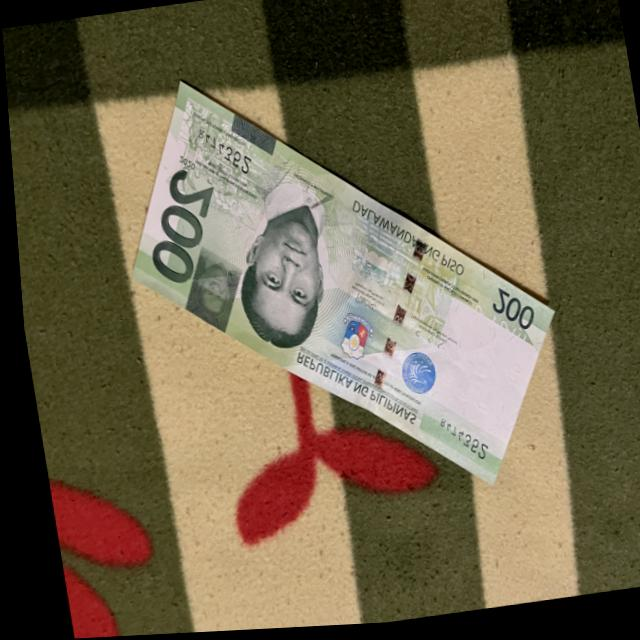concealed_value: (180, 246, 240, 333)
security_thread: (359, 231, 426, 418)
see_through_mark: (466, 301, 525, 352)
serial_number: (192, 124, 252, 180), (430, 417, 484, 466)
value: (140, 162, 213, 295)
value_watermark: (495, 361, 519, 400)
watermark: (426, 312, 517, 446)
